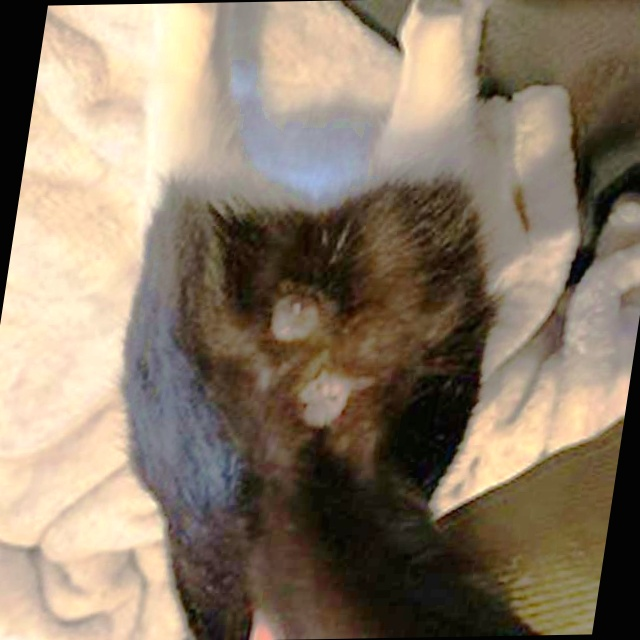lump_and_bump: (299, 372, 348, 425), (271, 299, 317, 343)
